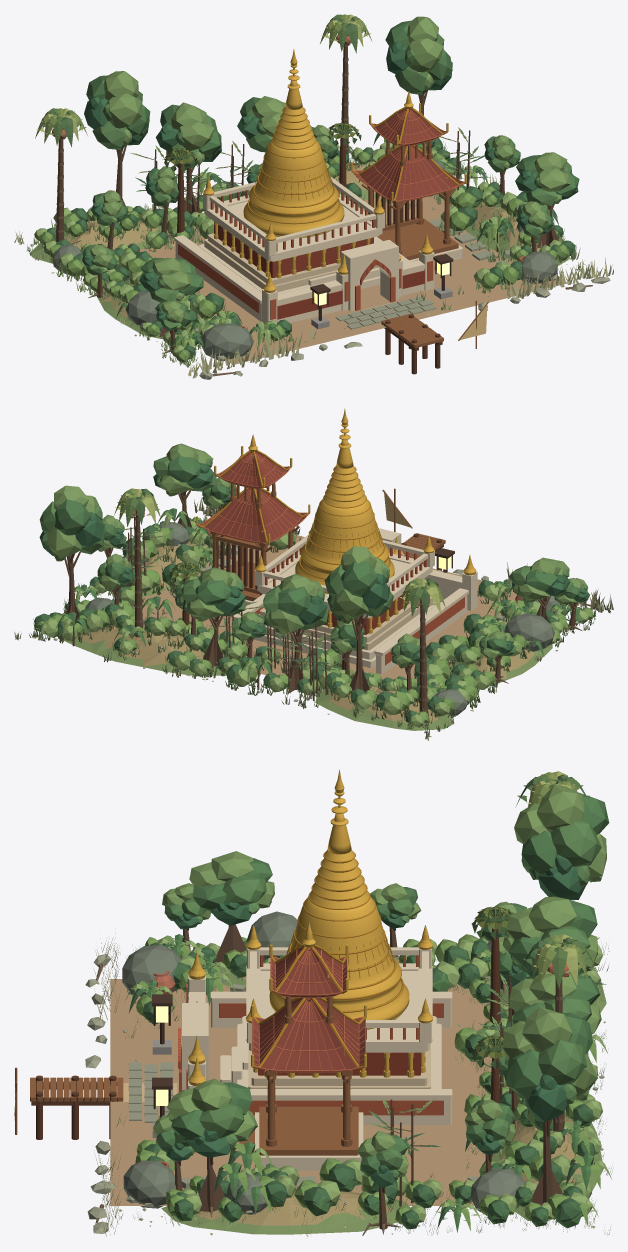
The model's file is dagon.glb.
3 renders of one model, top to bottom at view 1: azimuth 30°, elevation 25°; view 2: azimuth 150°, elevation 25°; view 3: azimuth 270°, elevation 25°, orthographic. The views are drawn at different scales.
Visible parts, largest first — view 1: dagon; view 2: dagon; view 3: dagon.
Part boxes in pixels (box(x1,y1,x2,y2)): dagon: box(14, 14, 613, 379); dagon: box(14, 408, 613, 740); dagon: box(14, 769, 612, 1236).
Bounding box in the file's own units: 7.72 × 4.25 × 6.7.
